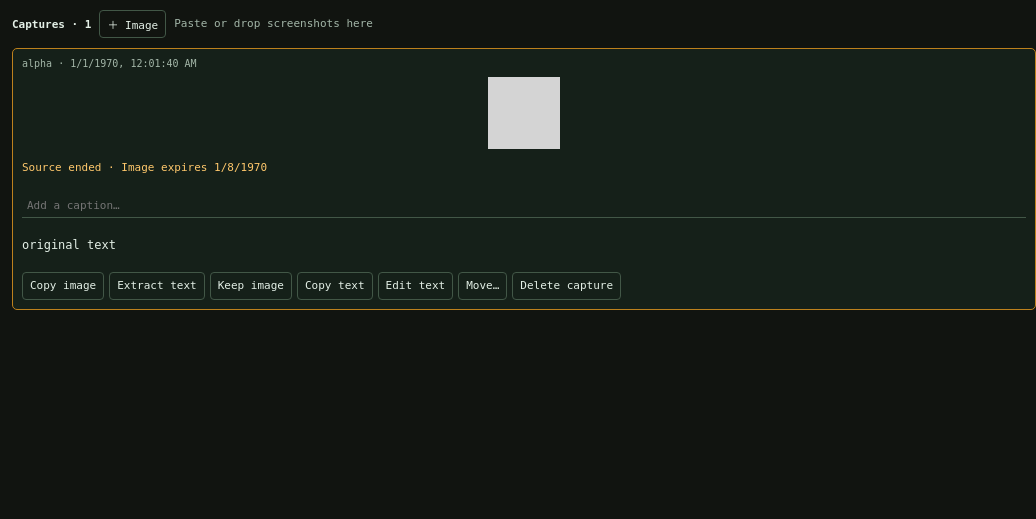
it: Note capture cards and storage › preserves editable OCR and its revision through refresh and a conflicting save
Click the button "Extract text": (157, 286) [109,272,205,300]
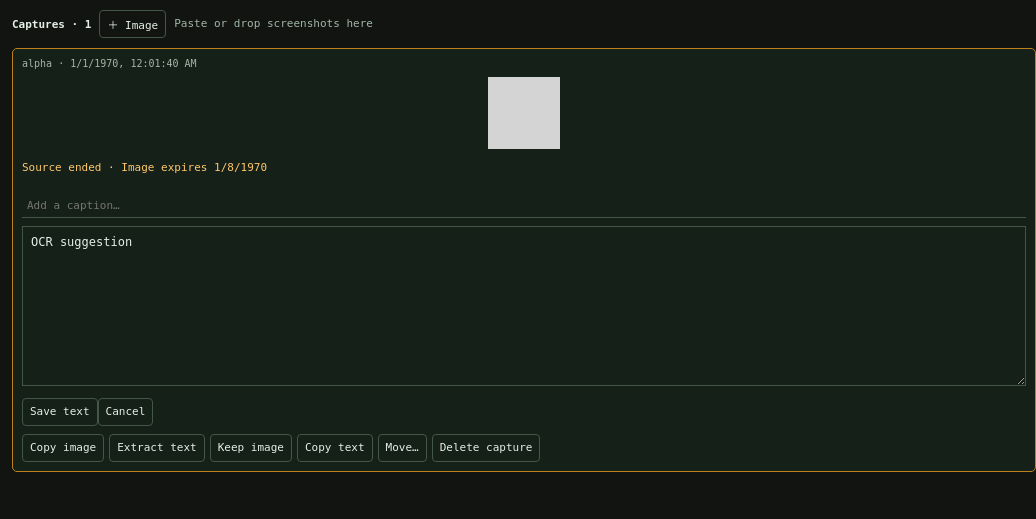
Now the text box named "Capture text" holds "OCR suggestion"
Replace the text in the text box named "Capture text" with "Reviewed OCR draft": (524, 306) [22,226,1026,386]
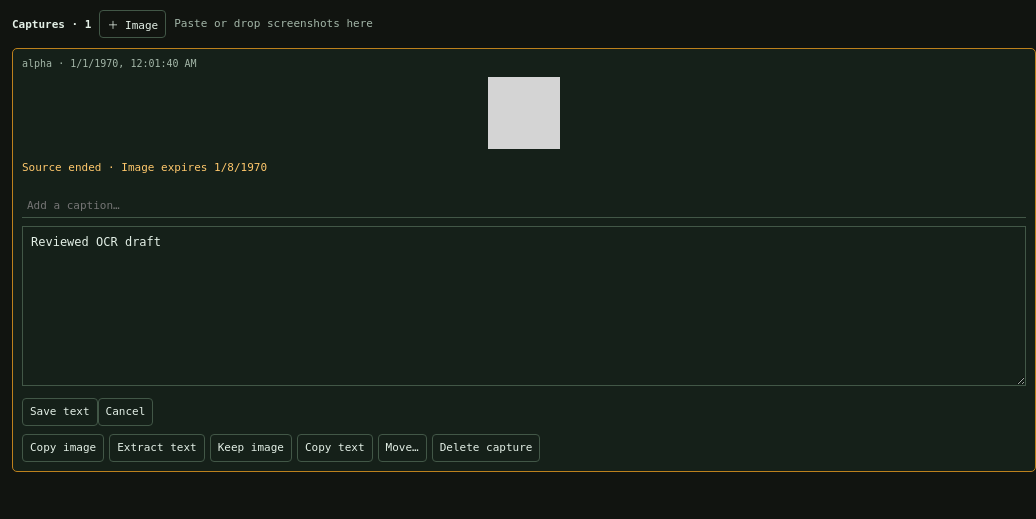
Click the button "Save text": (60, 412) [22,398,98,426]
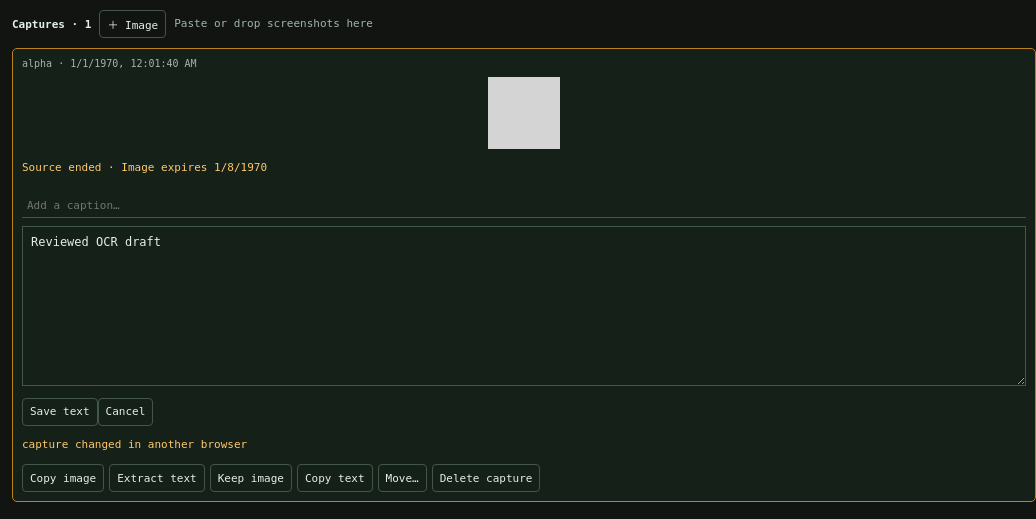
Now the message reads "capture changed in another browser", box [22,438,247,450]
